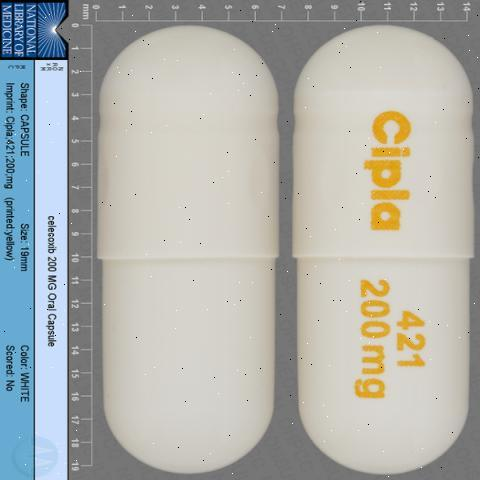Pill: (81, 16, 289, 478), (276, 9, 480, 480)
